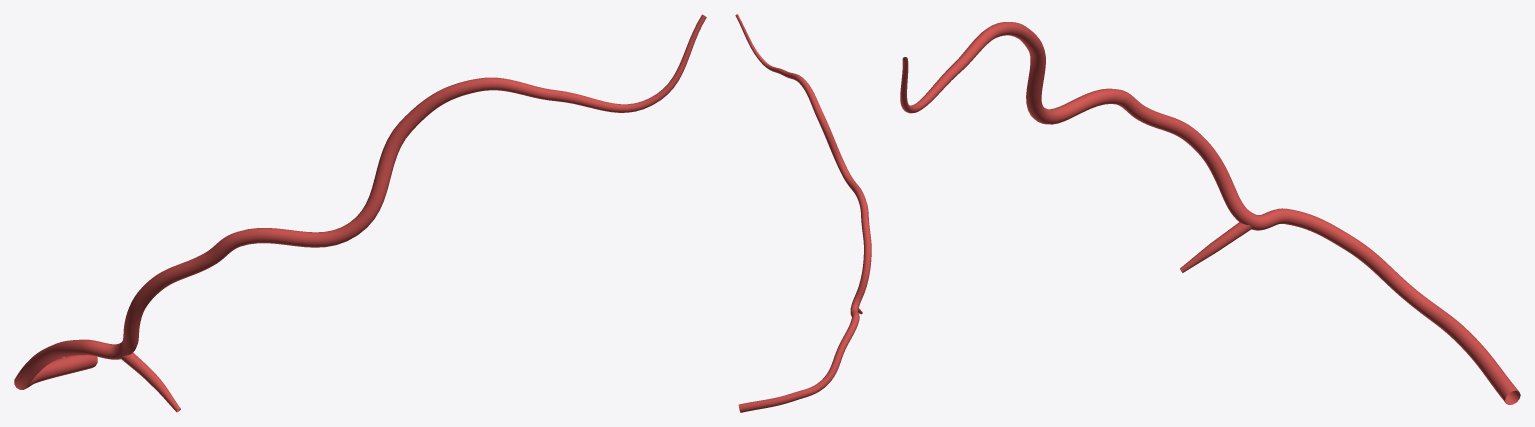
The picture shows the model from 3 angles, left to right: view 1: azimuth 30°, elevation 25°; view 2: azimuth 150°, elevation 25°; view 3: azimuth 270°, elevation 25°; orthographic projection. The views are drawn at different scales.
Parts seen in each view (by area): view 1: 右侧中央后沟动脉; view 2: 右侧中央后沟动脉; view 3: 右侧中央后沟动脉.
Part boxes in pixels (x1,y1,x2,y2): 右侧中央后沟动脉: (14,14,706,412); 右侧中央后沟动脉: (735,14,871,412); 右侧中央后沟动脉: (900,22,1520,404).
Bounding box in the file's own units: 0.068 × 0.073 × 0.0822.
